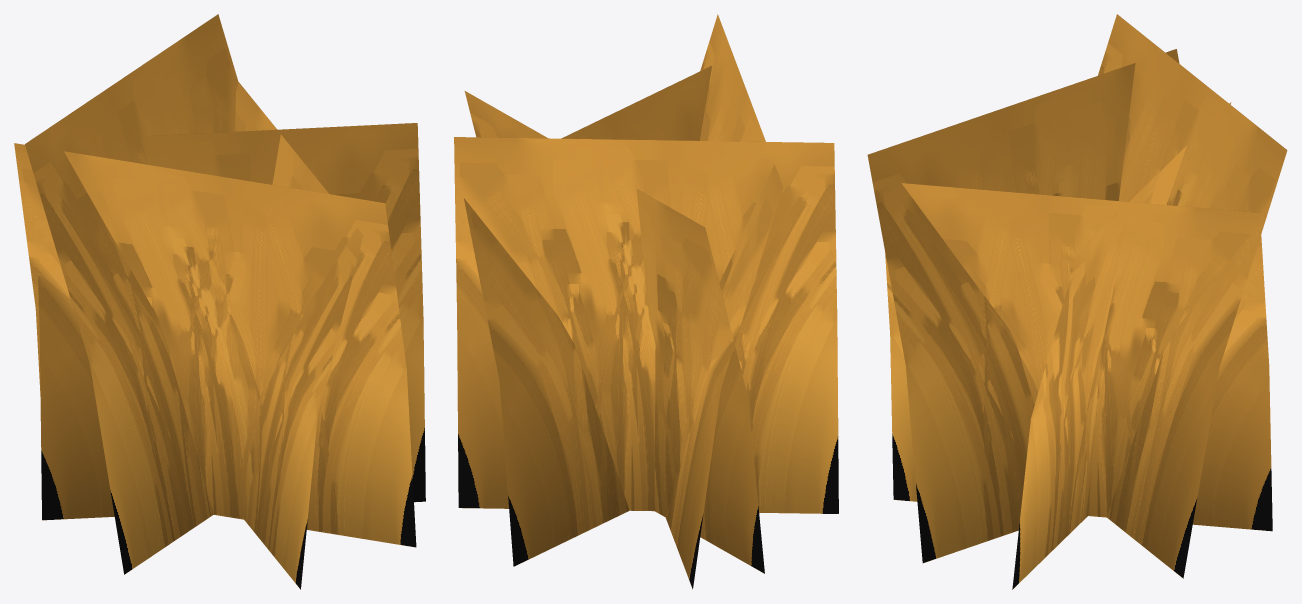
The model's file is beach_grass_1_burnt1.glb.
3 views of the same model, side by side, from view 1: azimuth 30°, elevation 25°; view 2: azimuth 150°, elevation 25°; view 3: azimuth 270°, elevation 25° (orthographic). The views are drawn at different scales.
Visible parts, largest first — view 1: beach_grass_1_burnt1; view 2: beach_grass_1_burnt1; view 3: beach_grass_1_burnt1.
Boxes of the visible parts, left/top/right/bottom form: beach_grass_1_burnt1: left=14, top=14, right=425, bottom=589; beach_grass_1_burnt1: left=454, top=14, right=838, bottom=589; beach_grass_1_burnt1: left=867, top=14, right=1287, bottom=589.
Bounding box in the file's own units: 0.8361 × 0.8656 × 0.8128.
Materials: 1 (1 with a texture image).
